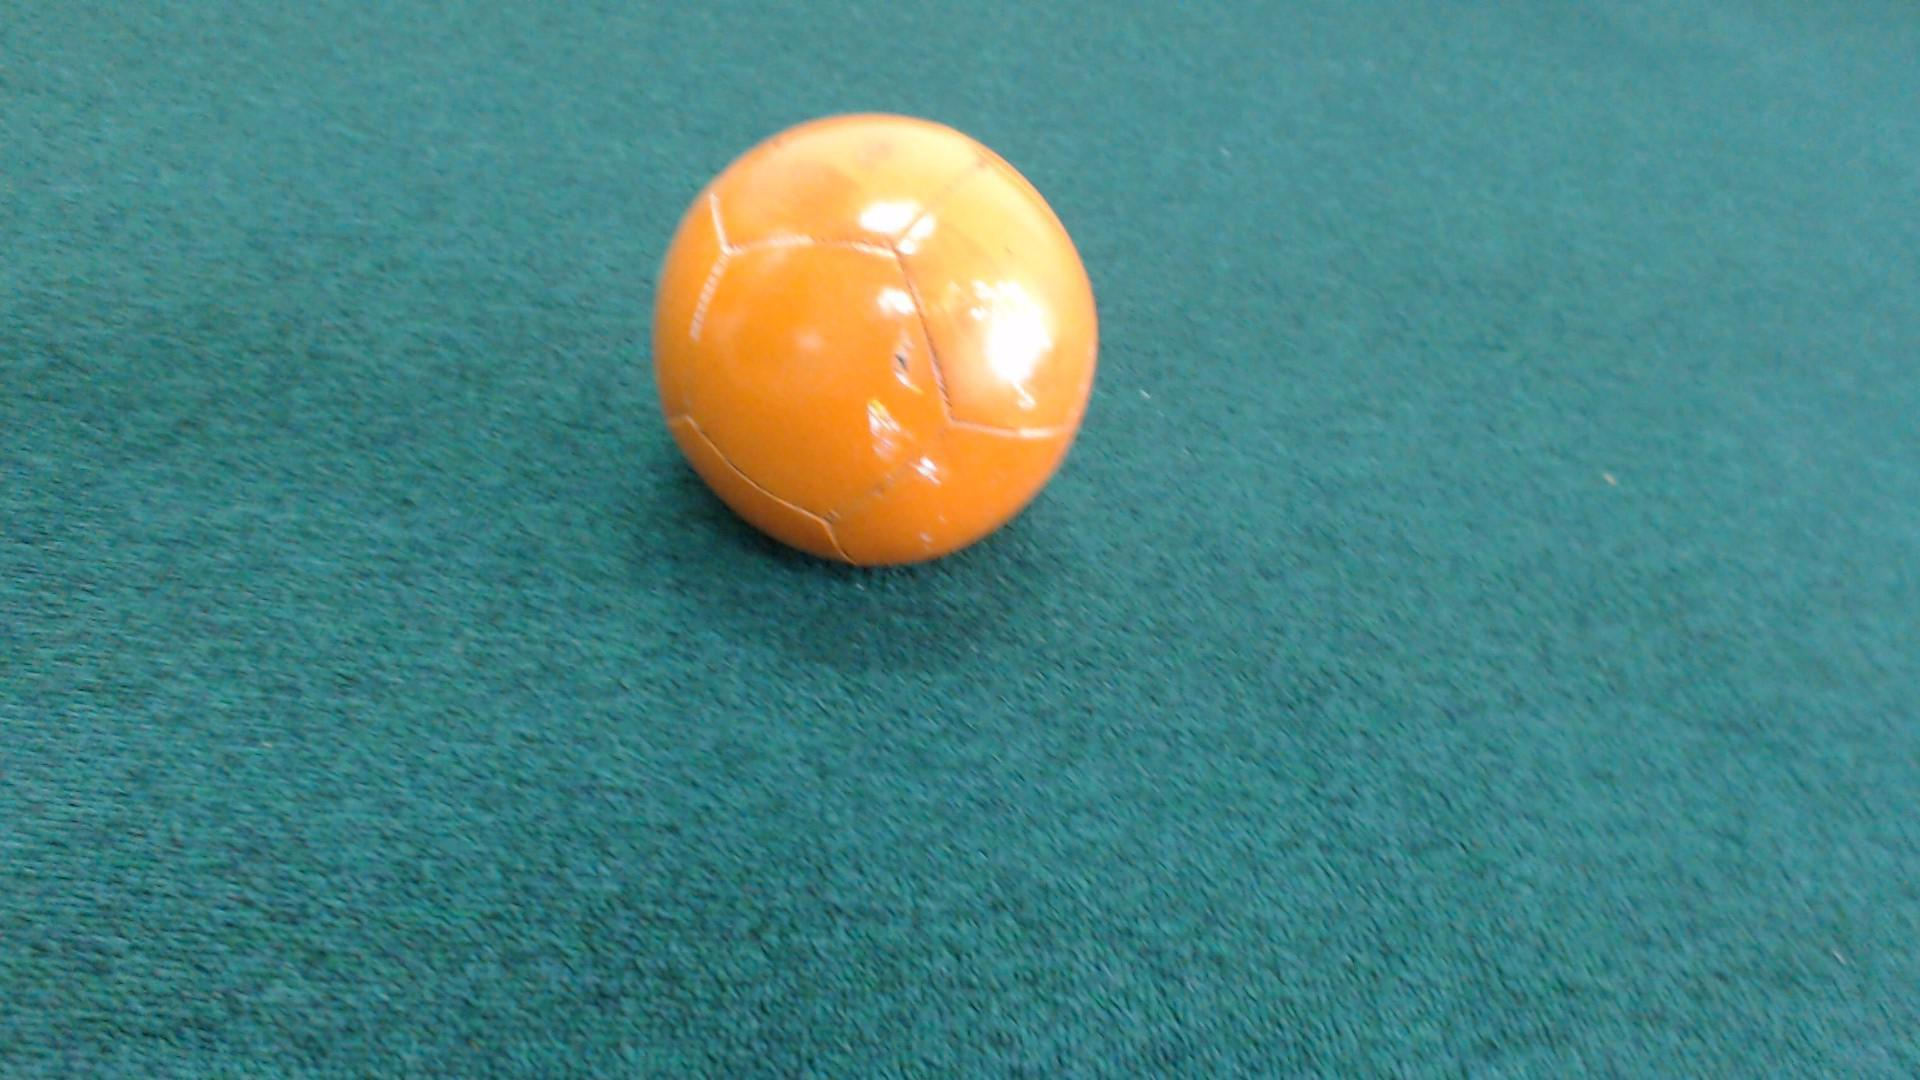bola: (621, 95, 1125, 587)
